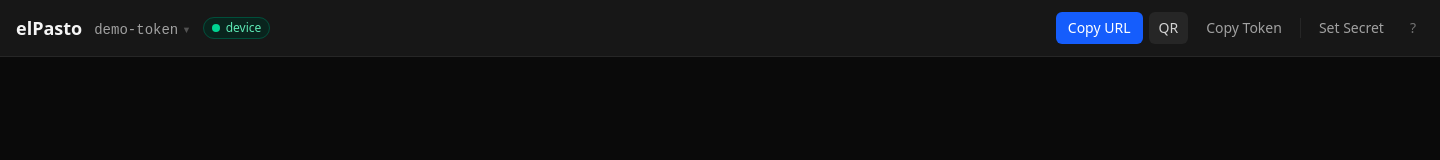
Test: SessionHeader › shows 'negotiating' for peers with channelState 'none'
What coordinates should you click on to do the following:
click the button with aria-label "Connection status"
I would click on:
 (236, 28)
Its box is [203,17,270,39].
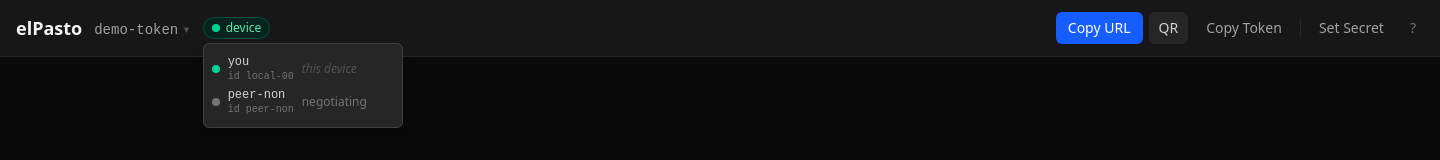
Check: the text "negotiating" is shown, box [302,94,367,110]
